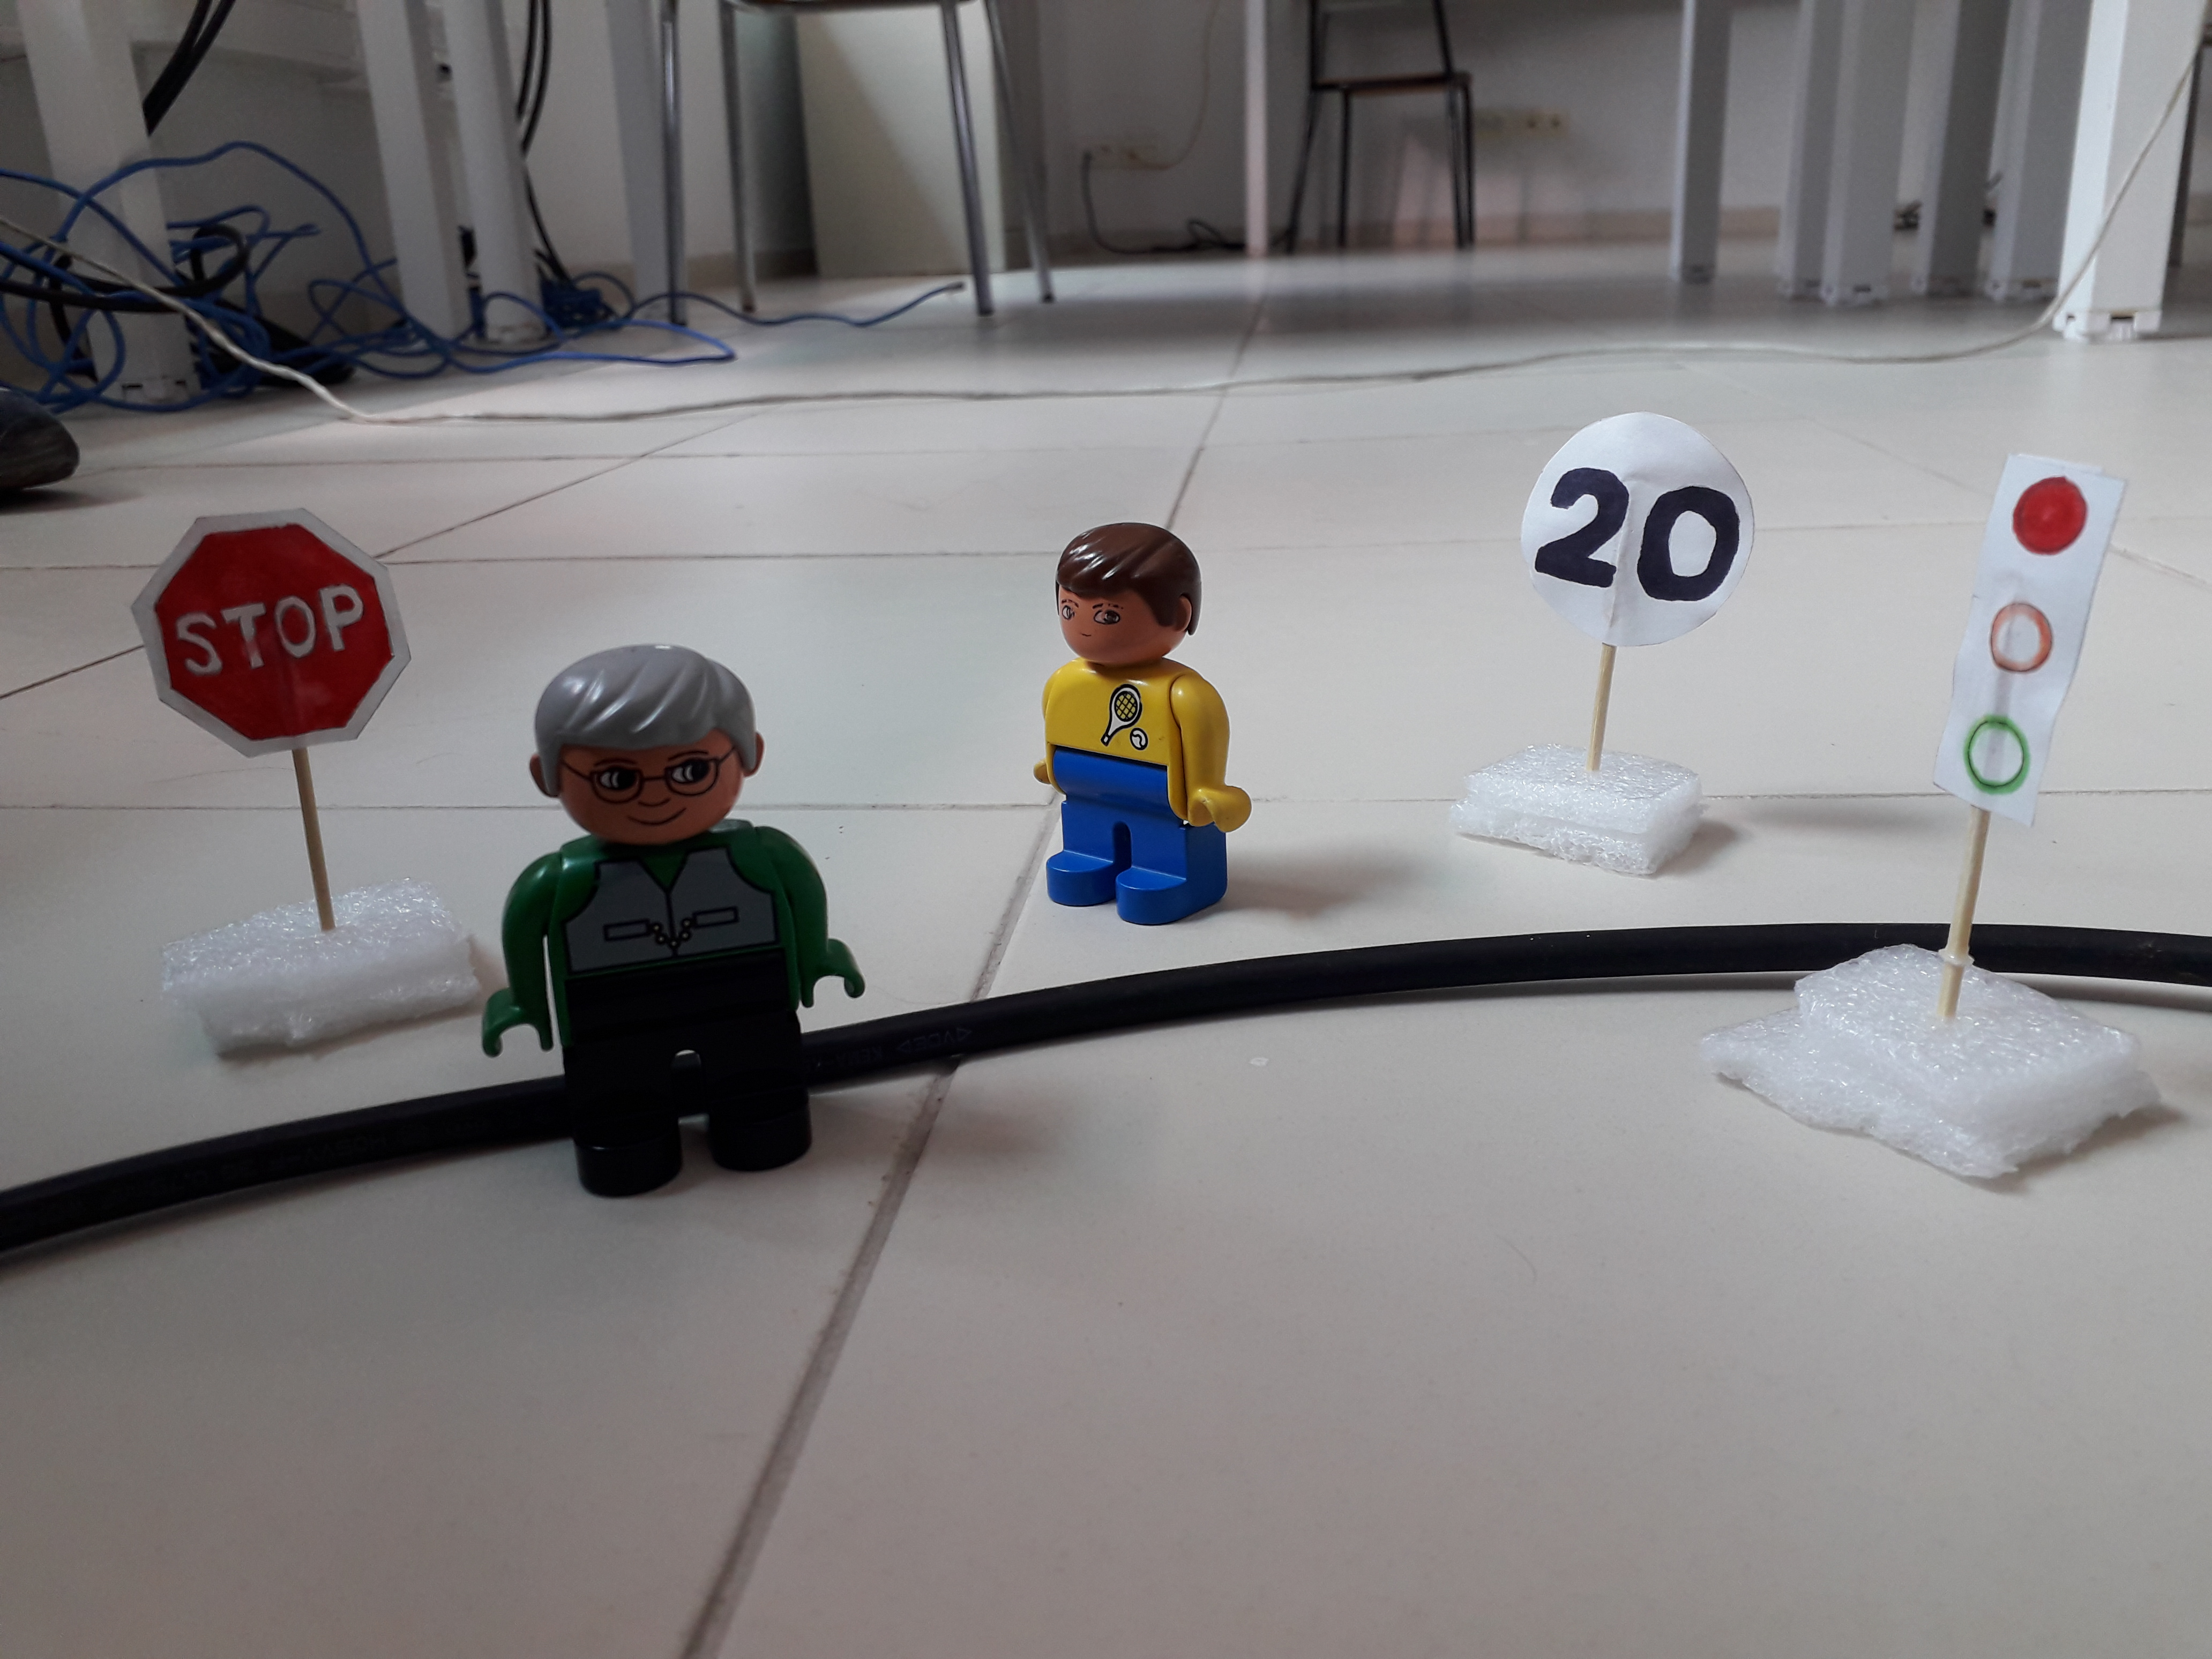20_sign: (1513, 410, 1760, 648)
person: (484, 635, 870, 1212), (1028, 523, 1258, 933)
red_light: (1934, 441, 2125, 845)
stop_sign: (122, 507, 421, 763)
